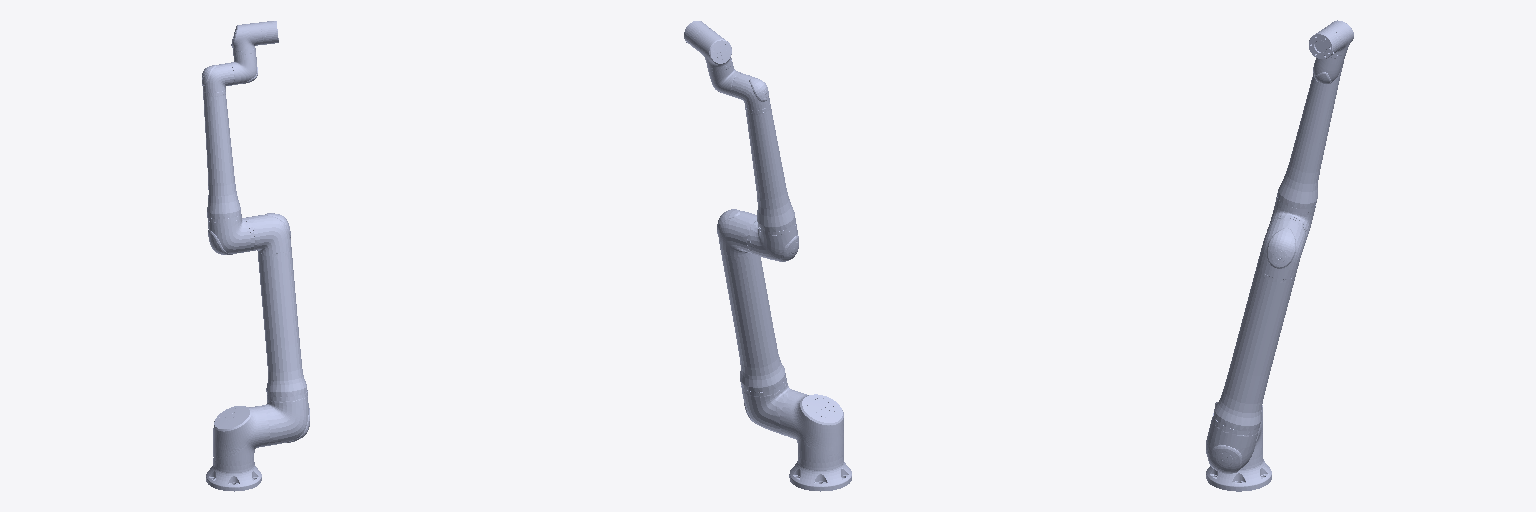
URDF robot description (urdf_UR20_MvS):
<?xml version="1.0" encoding="utf-8"?>
<!-- This URDF was automatically created by SolidWorks to URDF Exporter! Originally created by [author] ([email redacted]) 
     Commit Version: 1.6.0-4-g7f85cfe  Build Version: 1.6.7995.38578
     For more information, please see http://wiki.ros.org/sw_urdf_exporter -->
<robot
  name="urdf_UR20_MvS">
  <link
    name="base_link">
    <inertial>
      <origin
        xyz="0 0 0"
        rpy="0 0 0" />
      <mass
        value="0" />
      <inertia
        ixx="0"
        ixy="0"
        ixz="0"
        iyy="0"
        iyz="0"
        izz="0" />
    </inertial>
    <visual>
      <origin
        xyz="0 0 0"
        rpy="0 0 0" />
      <geometry>
        <mesh
          filename="package://urdf_UR20_MvS/meshes/base_link.STL" />
      </geometry>
      <material
        name="">
        <color
          rgba="0.79216 0.81961 0.93333 1" />
      </material>
    </visual>
    <collision>
      <origin
        xyz="0 0 0"
        rpy="0 0 0" />
      <geometry>
        <mesh
          filename="package://urdf_UR20_MvS/meshes/base_link.STL" />
      </geometry>
    </collision>
  </link>
  <link
    name="link_0">
    <inertial>
      <origin
        xyz="0 -0.061 0.0062"
        rpy="0 0 0" />
      <mass
        value="16.343" />
      <inertia
        ixx="0.0887"
        ixy="-0.0001"
        ixz="-0.0001"
        iyy="0.0763"
        iyz="0.0072"
        izz="0.0842" />
    </inertial>
    <visual>
      <origin
        xyz="0 0 0"
        rpy="0 0 0" />
      <geometry>
        <mesh
          filename="package://urdf_UR20_MvS/meshes/link_0.STL" />
      </geometry>
      <material
        name="">
        <color
          rgba="0.79216 0.81961 0.93333 1" />
      </material>
    </visual>
    <collision>
      <origin
        xyz="0 0 0"
        rpy="0 0 0" />
      <geometry>
        <mesh
          filename="package://urdf_UR20_MvS/meshes/link_0.STL" />
      </geometry>
    </collision>
  </link>
  <joint
    name="joint_1"
    type="revolute">
    <origin
      xyz="0 0 0.2363"
      rpy="1.5708 0 1.4242" />
    <parent
      link="base_link" />
    <child
      link="link_0" />
    <axis
      xyz="0 -1 0" />
    <limit
      lower="-6.283"
      upper="6.283"
      effort="20"
      velocity="2.094" />
  </joint>
  <link
    name="link_1">
    <inertial>
      <origin
        xyz="0.5226 0 0.2098"
        rpy="0 0 0" />
      <mass
        value="29.632" />
      <inertia
        ixx="0.1467"
        ixy="0.0002"
        ixz="-0.0516"
        iyy="4.6659"
        iyz="0"
        izz="4.6348" />
    </inertial>
    <visual>
      <origin
        xyz="0 0 0"
        rpy="0 0 0" />
      <geometry>
        <mesh
          filename="package://urdf_UR20_MvS/meshes/link_1.STL" />
      </geometry>
      <material
        name="">
        <color
          rgba="0.79216 0.81961 0.93333 1" />
      </material>
    </visual>
    <collision>
      <origin
        xyz="0 0 0"
        rpy="0 0 0" />
      <geometry>
        <mesh
          filename="package://urdf_UR20_MvS/meshes/link_1.STL" />
      </geometry>
    </collision>
  </link>
  <joint
    name="joint_2"
    type="revolute">
    <origin
      xyz="0.20083 0.83828 0"
      rpy="0 0 -0.21563" />
    <parent
      link="link_0" />
    <child
      link="link_1" />
    <axis
      xyz="0 0 1" />
    <limit
      lower="-6.283"
      upper="6.283"
      effort="20"
      velocity="2.094" />
  </joint>
  <link
    name="link_2">
    <inertial>
      <origin
        xyz="0.3234 0 0.0604"
        rpy="0 0 0" />
      <mass
        value="7.879" />
      <inertia
        ixx="0.0261"
        ixy="-0.0001"
        ixz="-0.029"
        iyy="0.7576"
        iyz="0"
        izz="0.7533" />
    </inertial>
    <visual>
      <origin
        xyz="0 0 0"
        rpy="0 0 0" />
      <geometry>
        <mesh
          filename="package://urdf_UR20_MvS/meshes/link_2.STL" />
      </geometry>
      <material
        name="">
        <color
          rgba="0.79216 0.81961 0.93333 1" />
      </material>
    </visual>
    <collision>
      <origin
        xyz="0 0 0"
        rpy="0 0 0" />
      <geometry>
        <mesh
          filename="package://urdf_UR20_MvS/meshes/link_2.STL" />
      </geometry>
    </collision>
  </link>
  <joint
    name="joint_3"
    type="revolute">
    <origin
      xyz="0 0.7287 0"
      rpy="0 0 -1.5708" />
    <parent
      link="link_1" />
    <child
      link="link_2" />
    <axis
      xyz="0 0 1" />
    <limit
      lower="-6.283"
      upper="6.283"
      effort="20"
      velocity="2.618" />
  </joint>
  <link
    name="link_3">
    <inertial>
      <origin
        xyz="0 -0.0026 0.0393"
        rpy="0 0 0" />
      <mass
        value="3.054" />
      <inertia
        ixx="0.0056"
        ixy="0"
        ixz="0"
        iyy="0.0054"
        iyz="0.0004"
        izz="0.004" />
    </inertial>
    <visual>
      <origin
        xyz="0 0 0"
        rpy="0 0 0" />
      <geometry>
        <mesh
          filename="package://urdf_UR20_MvS/meshes/link_3.STL" />
      </geometry>
      <material
        name="">
        <color
          rgba="0.79216 0.81961 0.93333 1" />
      </material>
    </visual>
    <collision>
      <origin
        xyz="0 0 0"
        rpy="0 0 0" />
      <geometry>
        <mesh
          filename="package://urdf_UR20_MvS/meshes/link_3.STL" />
      </geometry>
    </collision>
  </link>
  <joint
    name="joint_4"
    type="revolute">
    <origin
      xyz="0 0 0.201"
      rpy="1.5708 0 -1.6575" />
    <parent
      link="link_2" />
    <child
      link="link_3" />
    <axis
      xyz="0 -1 0" />
    <limit
      lower="-6.283"
      upper="6.283"
      effort="20"
      velocity="3.665" />
  </joint>
  <link
    name="link_4">
    <inertial>
      <origin
        xyz="0 0.0024 0.0379"
        rpy="0 0 0" />
      <mass
        value="3.126" />
      <inertia
        ixx="0.0059"
        ixy="0"
        ixz="0"
        iyy="0.0058"
        iyz="-0.0004"
        izz="0.0043" />
    </inertial>
    <visual>
      <origin
        xyz="0 0 0"
        rpy="0 0 0" />
      <geometry>
        <mesh
          filename="package://urdf_UR20_MvS/meshes/link_4.STL" />
      </geometry>
      <material
        name="">
        <color
          rgba="0.79216 0.81961 0.93333 1" />
      </material>
    </visual>
    <collision>
      <origin
        xyz="0 0 0"
        rpy="0 0 0" />
      <geometry>
        <mesh
          filename="package://urdf_UR20_MvS/meshes/link_4.STL" />
      </geometry>
    </collision>
  </link>
  <joint
    name="joint_5"
    type="revolute">
    <origin
      xyz="0 0 0.1593"
      rpy="-1.5708 0 -0.32244" />
    <parent
      link="link_3" />
    <child
      link="link_4" />
    <axis
      xyz="0 1 0" />
    <limit
      lower="-6.283"
      upper="6.283"
      effort="20"
      velocity="3.665" />
  </joint>
  <link
    name="link_5">
    <inertial>
      <origin
        xyz="0 -0.0003 -0.0318"
        rpy="0 0 0" />
      <mass
        value="0.846" />
      <inertia
        ixx="0.0009"
        ixy="0"
        ixz="0"
        iyy="0.0009"
        iyz="0"
        izz="0.0012" />
    </inertial>
    <visual>
      <origin
        xyz="0 0 0"
        rpy="0 0 0" />
      <geometry>
        <mesh
          filename="package://urdf_UR20_MvS/meshes/link_5.STL" />
      </geometry>
      <material
        name="">
        <color
          rgba="0.79216 0.81961 0.93333 1" />
      </material>
    </visual>
    <collision>
      <origin
        xyz="0 0 0"
        rpy="0 0 0" />
      <geometry>
        <mesh
          filename="package://urdf_UR20_MvS/meshes/link_5.STL" />
      </geometry>
    </collision>
  </link>
  <joint
    name="joint_6"
    type="revolute">
    <origin
      xyz="0 0 0.1543"
      rpy="0 0 -0.19583" />
    <parent
      link="link_4" />
    <child
      link="link_5" />
    <axis
      xyz="0 0 -1" />
    <limit
      lower="-6.283"
      upper="6.283"
      effort="20"
      velocity="3.665" />
  </joint>
</robot>

--- Render facts (derived) ---
Views: 3 orthographic renders of the robot side by side, from view 1: azimuth 30°, elevation 25°; view 2: azimuth 150°, elevation 25°; view 3: azimuth 270°, elevation 25°.
Model urdf_UR20_MvS with 7 links and 6 joints (6 revolute), rooted at base_link, posed every joint at zero.
Links seen in each view (by area): view 1: link_1, link_2, link_0, base_link, link_4, link_3; view 2: link_1, link_2, link_0, base_link, link_4, link_3; view 3: link_1, link_2, base_link, link_5, link_3, link_4.
Boxes of the visible links, x1,y1,x2,y2 form: link_1: [247, 213, 309, 445]; link_2: [202, 63, 254, 254]; link_0: [213, 406, 269, 465]; base_link: [206, 458, 261, 491]; link_4: [231, 22, 265, 54]; link_3: [230, 52, 257, 84]; link_1: [717, 209, 797, 435]; link_2: [731, 73, 798, 261]; link_0: [780, 392, 843, 462]; base_link: [789, 455, 851, 491]; link_4: [692, 27, 731, 71]; link_3: [707, 62, 740, 96]; link_1: [1206, 218, 1305, 473]; link_2: [1267, 62, 1343, 239]; base_link: [1206, 454, 1271, 491]; link_5: [1309, 30, 1338, 59]; link_3: [1313, 57, 1344, 84]; link_4: [1322, 20, 1353, 58].
Bounding box of the posed robot: 0.5402 × 0.5523 × 2 m (x, y, z).
Meshes: 7 distinct files referenced, 7 mesh visuals loaded (7 binary STL).